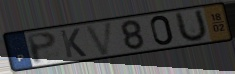0: (148, 14, 176, 47)
8: (119, 19, 146, 51)
K: (59, 27, 89, 59)
P: (24, 30, 58, 66)
U: (174, 8, 209, 44)
V: (83, 19, 115, 57)
